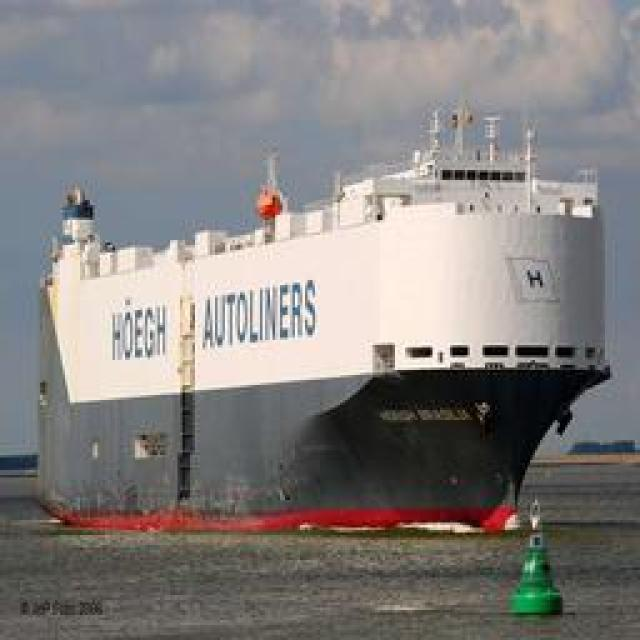CIV_Ship: (18, 150, 610, 528)
